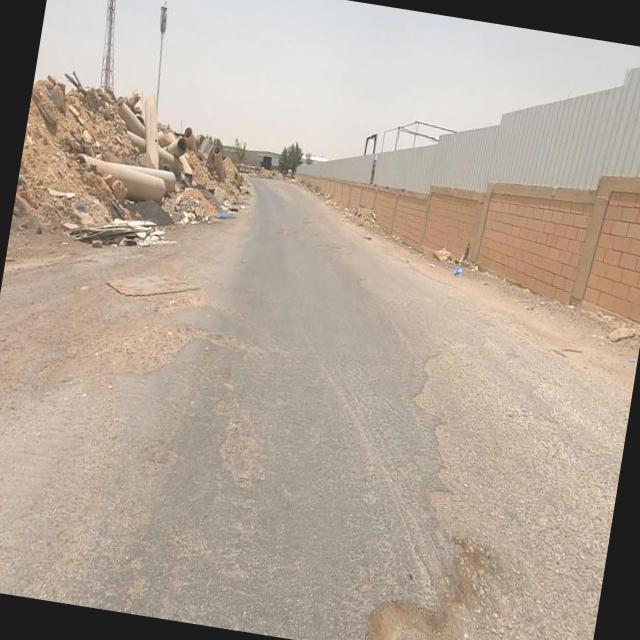debris: (184, 158, 268, 264), (405, 199, 484, 309), (92, 182, 178, 274), (570, 285, 640, 384), (424, 225, 492, 316), (314, 178, 388, 254), (148, 170, 216, 252), (60, 127, 124, 214), (60, 182, 108, 243)
